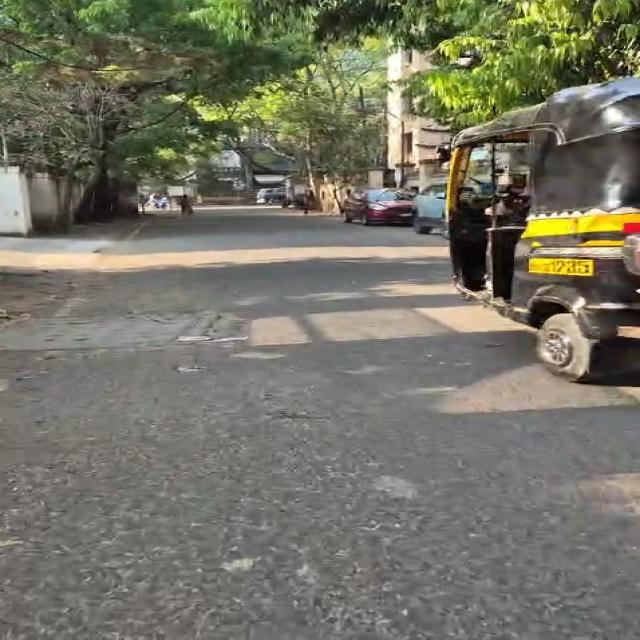bench: (343, 189, 416, 225), (413, 183, 448, 237), (256, 188, 285, 204)
